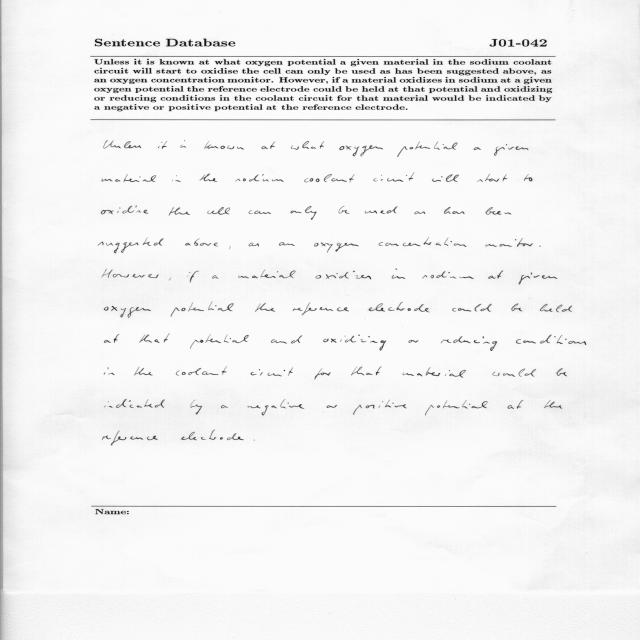word: (323, 334, 386, 351), (98, 238, 164, 254), (366, 400, 434, 415), (397, 141, 458, 157), (248, 399, 304, 416), (171, 302, 234, 317), (190, 334, 249, 349), (379, 237, 467, 247), (441, 336, 497, 351), (103, 431, 158, 446), (293, 303, 349, 316), (403, 367, 467, 378), (516, 335, 586, 345), (437, 400, 514, 409), (368, 302, 429, 312), (104, 306, 151, 318), (339, 145, 383, 157), (238, 270, 296, 279), (102, 269, 159, 278), (109, 399, 165, 408), (176, 367, 227, 376), (519, 273, 557, 285), (314, 243, 359, 253), (316, 271, 372, 279), (102, 174, 156, 182), (485, 238, 533, 247), (494, 144, 529, 156), (181, 430, 223, 440), (304, 174, 355, 182), (235, 174, 284, 182), (250, 368, 293, 377), (290, 206, 317, 220), (102, 206, 149, 214), (374, 173, 415, 182), (492, 369, 536, 377), (205, 141, 244, 150), (327, 405, 362, 415), (452, 304, 492, 312), (291, 141, 324, 150), (104, 141, 141, 149), (271, 335, 302, 344), (140, 334, 170, 343), (351, 367, 381, 376), (365, 206, 398, 214), (185, 239, 218, 247), (540, 304, 572, 312), (422, 271, 457, 278), (477, 174, 507, 182), (432, 174, 459, 182), (485, 207, 511, 215), (169, 207, 190, 216), (314, 369, 331, 380), (208, 207, 231, 215), (255, 303, 275, 312), (191, 400, 202, 415), (200, 173, 218, 182), (544, 400, 562, 409), (134, 367, 153, 375), (444, 207, 464, 214), (488, 270, 503, 279), (105, 334, 120, 343), (392, 269, 405, 279), (189, 271, 199, 283), (227, 433, 244, 440), (262, 142, 275, 149), (249, 210, 271, 214), (339, 206, 350, 214), (511, 304, 522, 312), (104, 367, 115, 375), (556, 368, 567, 376), (158, 141, 167, 149), (279, 242, 295, 246), (172, 175, 181, 182), (524, 174, 533, 181), (517, 400, 523, 409), (180, 141, 186, 148), (249, 243, 259, 247), (414, 212, 426, 215), (409, 340, 419, 343), (212, 275, 219, 279), (460, 277, 474, 279), (474, 147, 481, 150), (221, 405, 228, 408), (229, 246, 231, 249), (169, 278, 171, 281), (539, 246, 541, 247)
